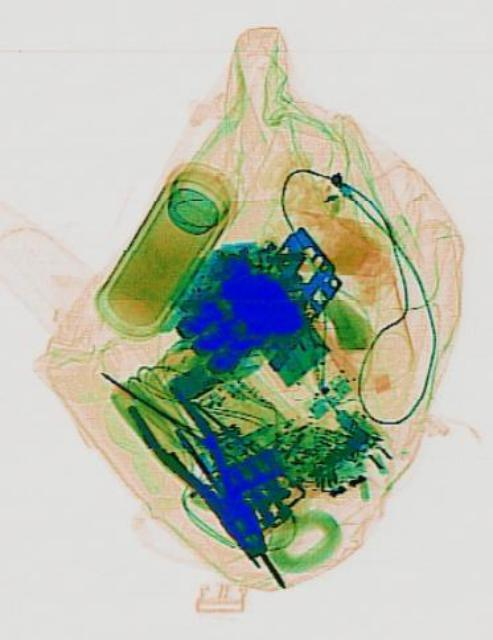Pliers: (122, 364, 281, 578)
